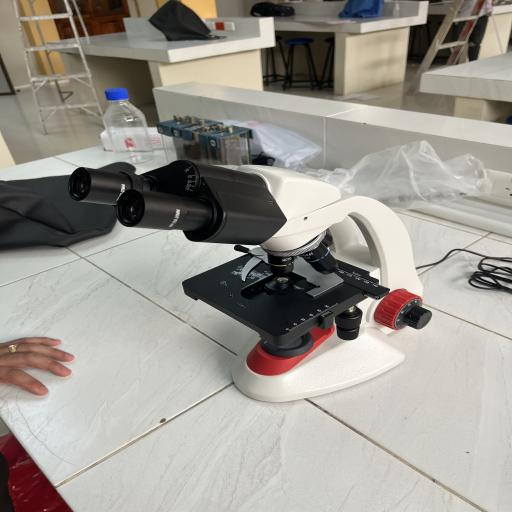Microscopio_Binocular: (58, 146, 450, 412)
